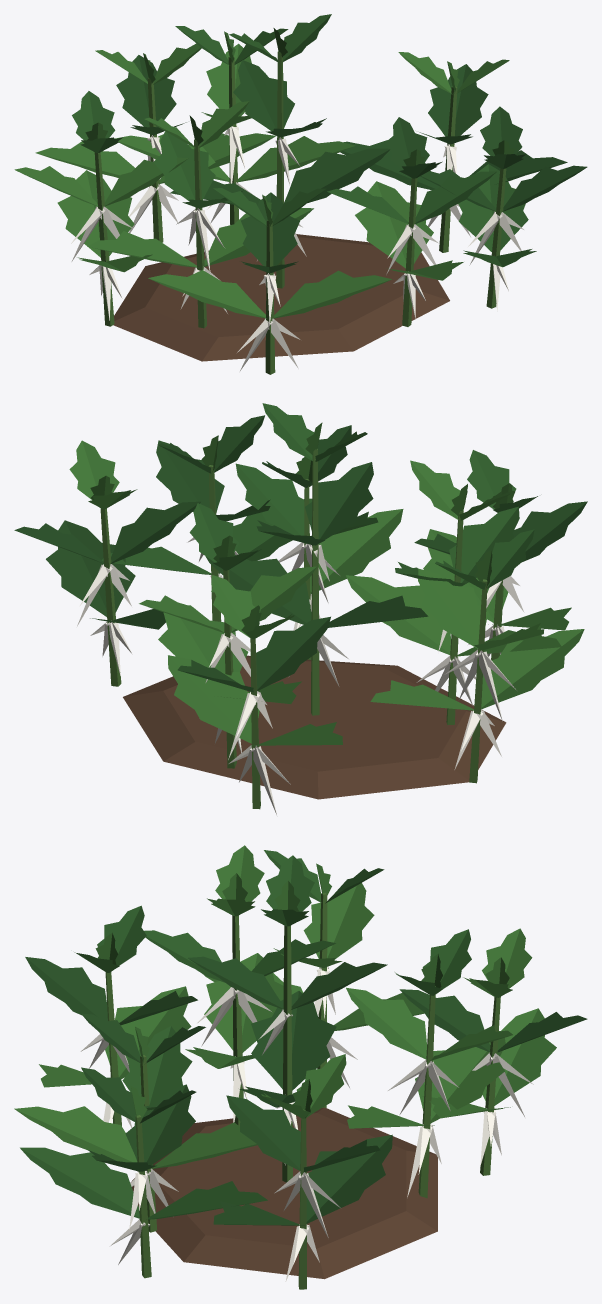
The model's file is nettle-patch.glb.
3 renders of one model, top to bottom at view 1: azimuth 30°, elevation 25°; view 2: azimuth 150°, elevation 25°; view 3: azimuth 270°, elevation 25°, orthographic. The views are drawn at different scales.
Visible parts, largest first — view 1: nettle-patch; view 2: nettle-patch; view 3: nettle-patch.
Boxes of the visible parts, <box> form: nettle-patch: <box>14,14,587,374</box>; nettle-patch: <box>14,403,587,814</box>; nettle-patch: <box>14,845,587,1289</box>.
Size of the model in its own units: 1.17 by 0.6256 by 1.05.
